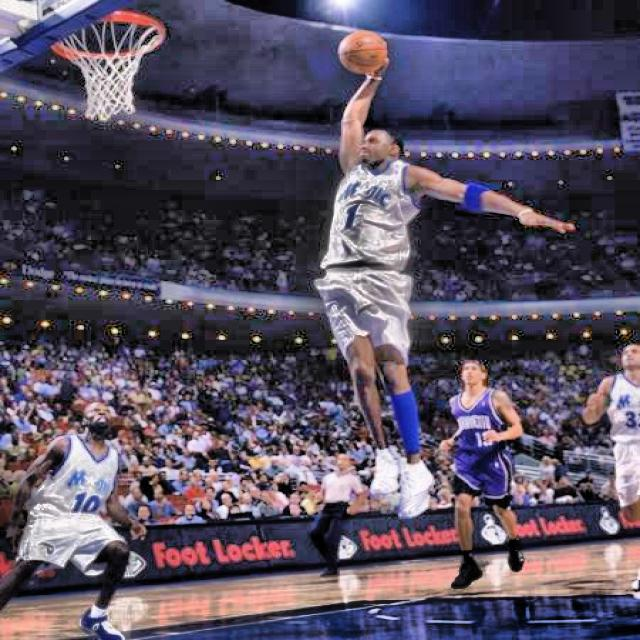board: (338, 29, 388, 77)
rim: (50, 10, 164, 120)
